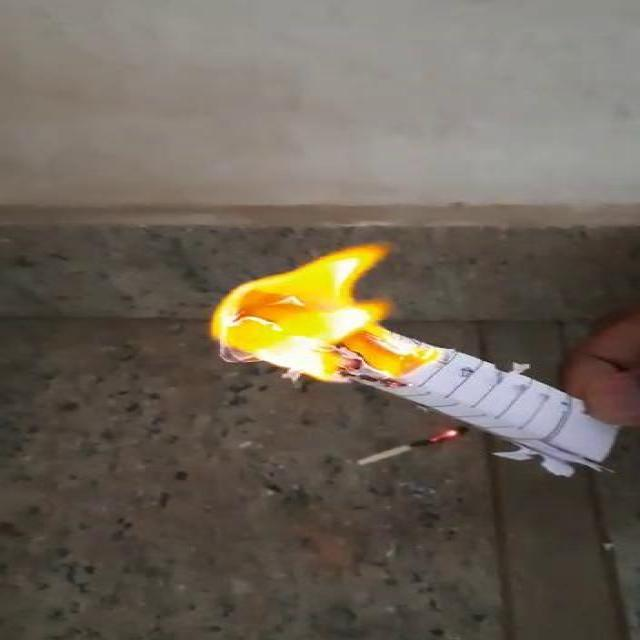fire: (209, 239, 445, 384)
